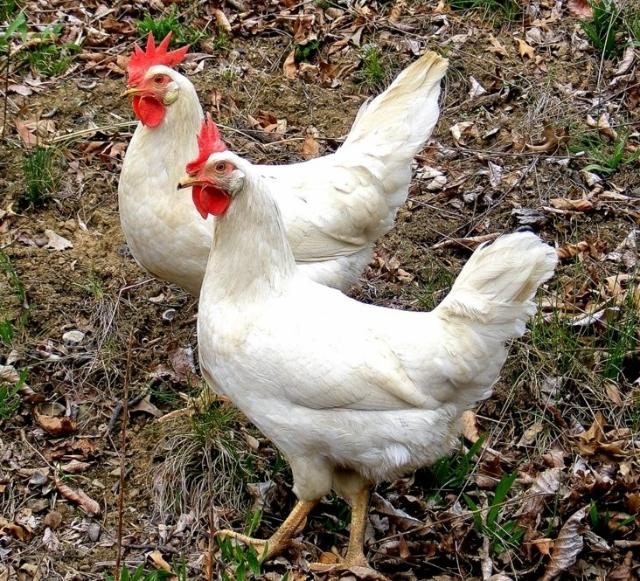Chicken: (175, 113, 560, 568), (115, 28, 451, 296)
